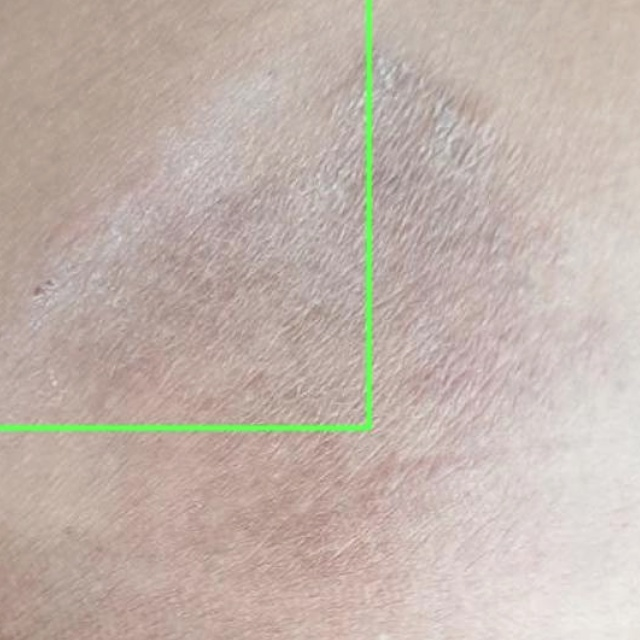Contact Dermatitis: (0, 0, 369, 428)
